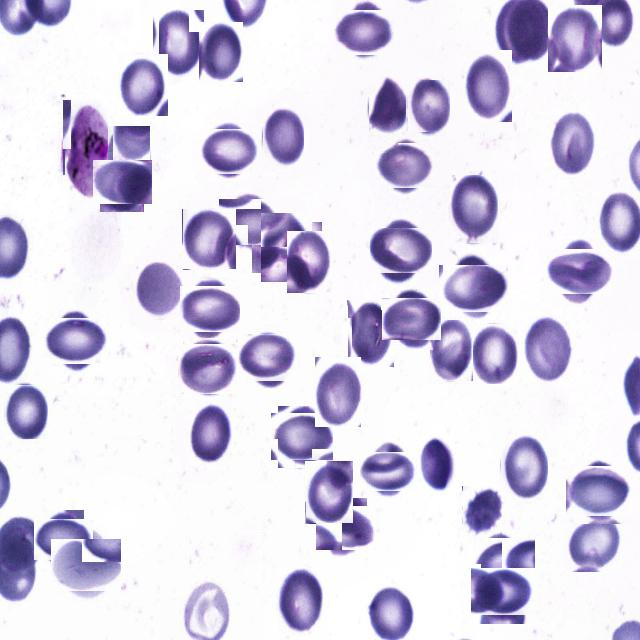difficult: (62, 100, 108, 202)
red blood cell: (56, 534, 117, 596), (548, 5, 602, 72), (257, 218, 317, 278), (152, 10, 204, 77), (444, 260, 504, 318), (449, 175, 498, 244), (550, 242, 608, 300), (570, 462, 628, 520), (524, 315, 574, 382), (182, 208, 236, 270), (466, 50, 512, 122), (564, 515, 622, 572), (315, 357, 361, 427), (500, 434, 548, 501), (347, 300, 394, 368), (476, 534, 532, 590), (475, 564, 531, 620), (118, 54, 168, 116), (277, 568, 323, 635), (180, 341, 236, 396), (242, 330, 297, 386), (550, 112, 596, 178), (274, 410, 330, 464), (305, 461, 353, 524), (338, 5, 392, 59), (48, 314, 102, 368), (374, 224, 428, 278), (471, 324, 519, 384), (134, 262, 183, 320), (188, 401, 232, 465), (184, 282, 236, 336), (287, 231, 332, 293), (319, 502, 372, 554), (198, 22, 243, 83), (106, 126, 150, 188), (430, 318, 473, 381), (379, 140, 431, 192), (203, 126, 255, 178), (222, 196, 274, 248), (96, 156, 148, 208), (262, 106, 304, 170), (386, 294, 437, 345), (38, 514, 88, 564), (4, 385, 48, 440), (364, 446, 412, 496), (407, 80, 450, 133), (370, 76, 408, 135), (416, 437, 456, 491), (462, 486, 502, 539)
